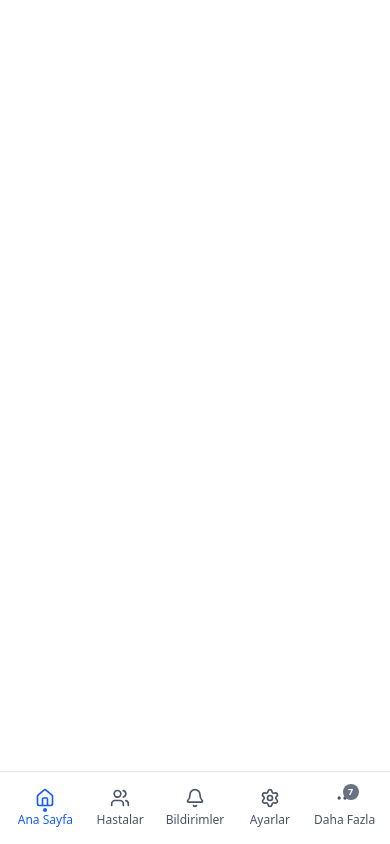
MobileNavigation Component › should open more menu when clicking more button
The image size is (390, 844).
Click the button "7 Daha Fazla".
click(345, 808)  # box x1=307 y1=780 x2=382 y2=836
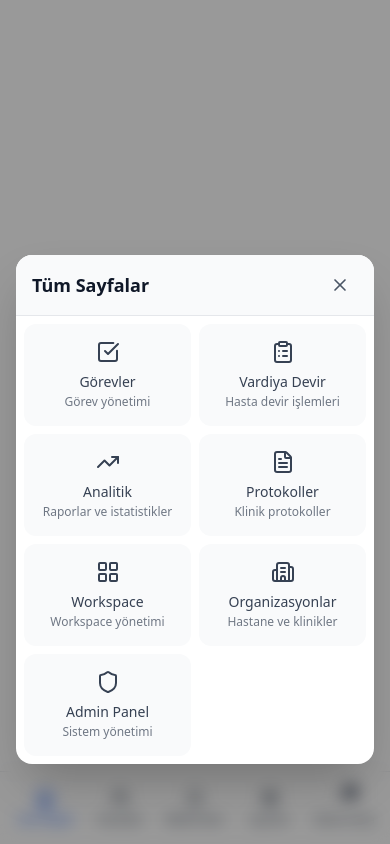
Expected: the heading "Tüm Sayfalar" is shown, x1=32 y1=271 x2=149 y2=299
